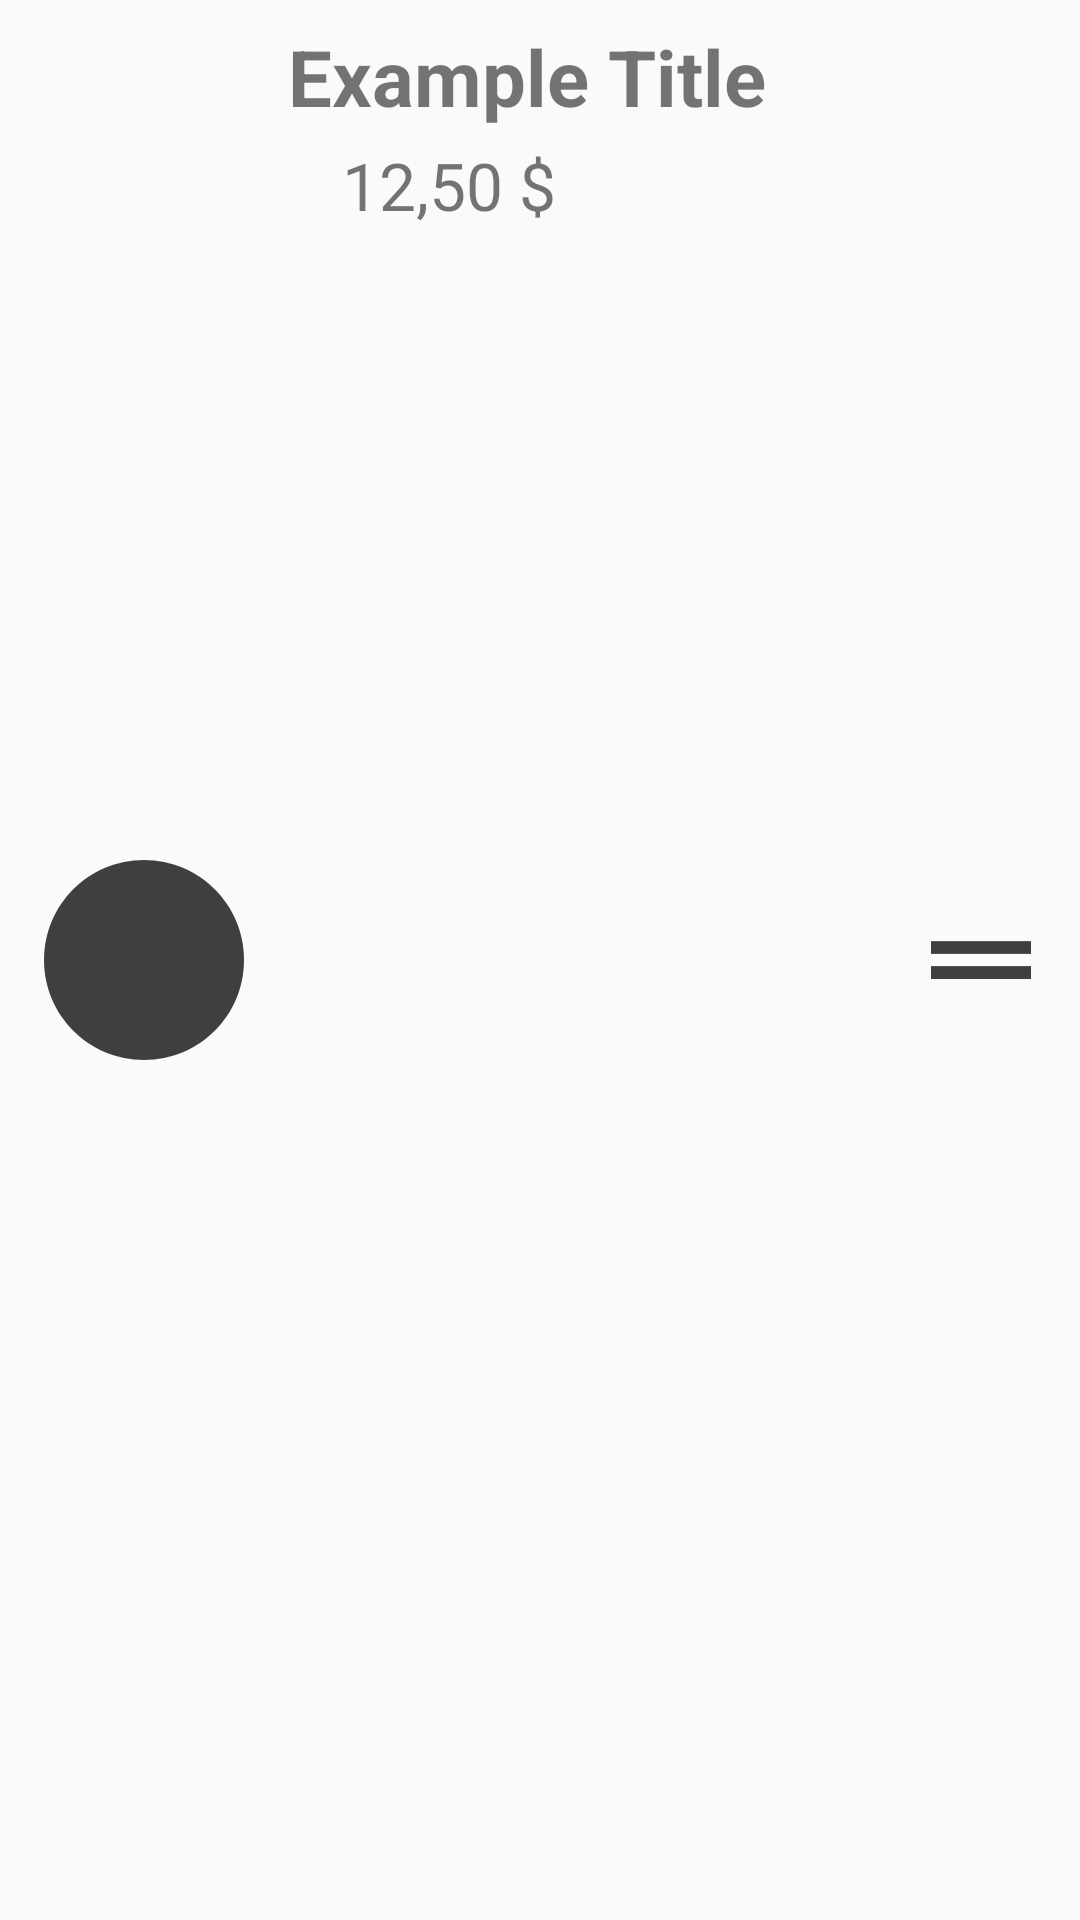

Locate icon controls on the screen. Image size 1080w x 1920h, boxes as bbox(x1, y1, x2, y2).
drag handle: bbox(931, 941, 1031, 979)
